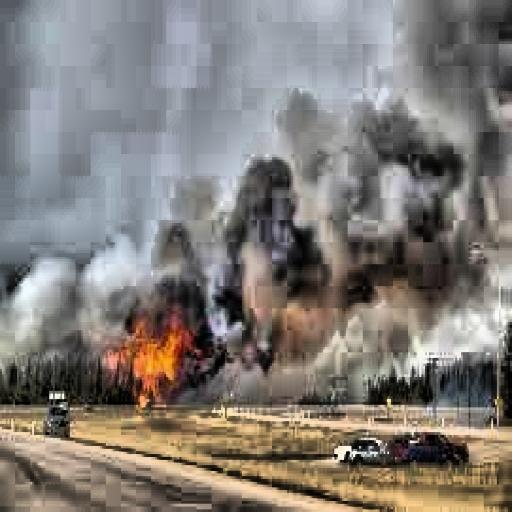fire: (98, 316, 198, 404)
